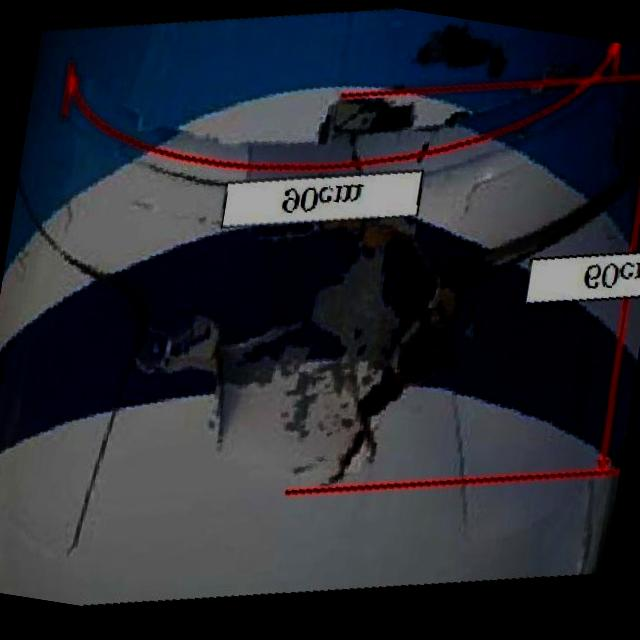crack: (320, 76, 640, 526), (158, 301, 258, 462)
